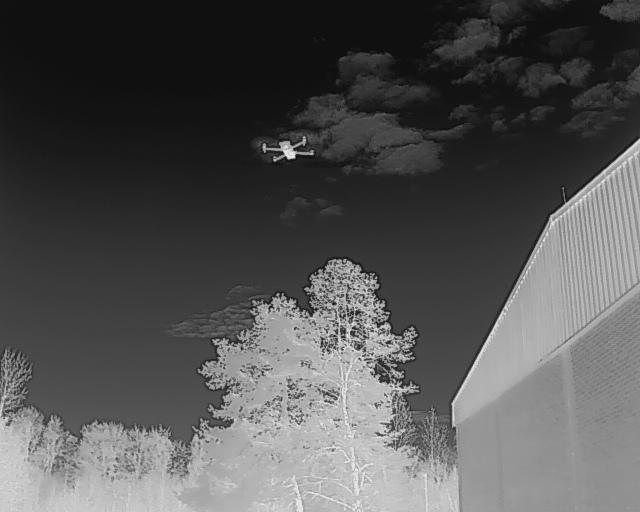drone: (252, 131, 317, 170)
